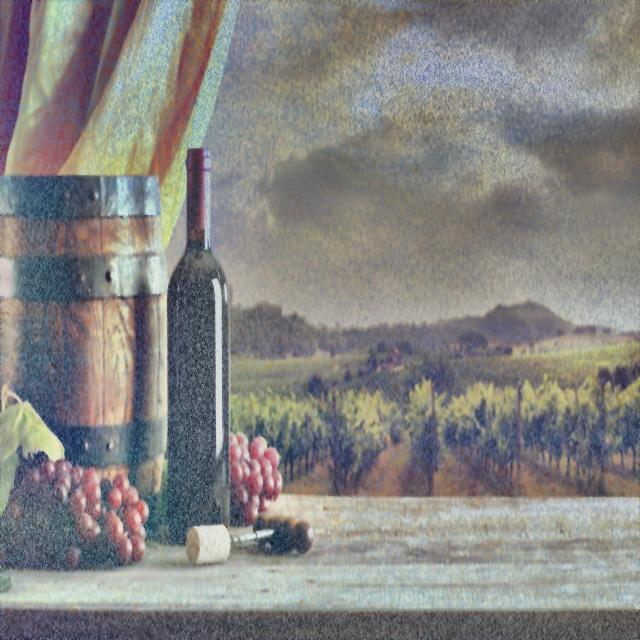cork: (184, 511, 232, 568)
